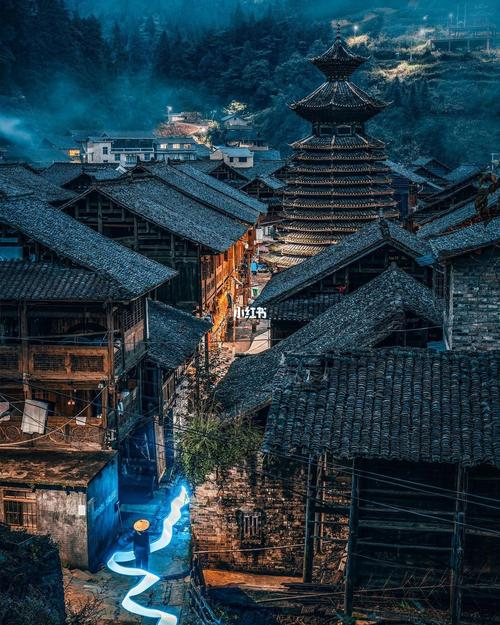buildings: (211, 250, 484, 570)
mountain: (227, 290, 464, 525)
